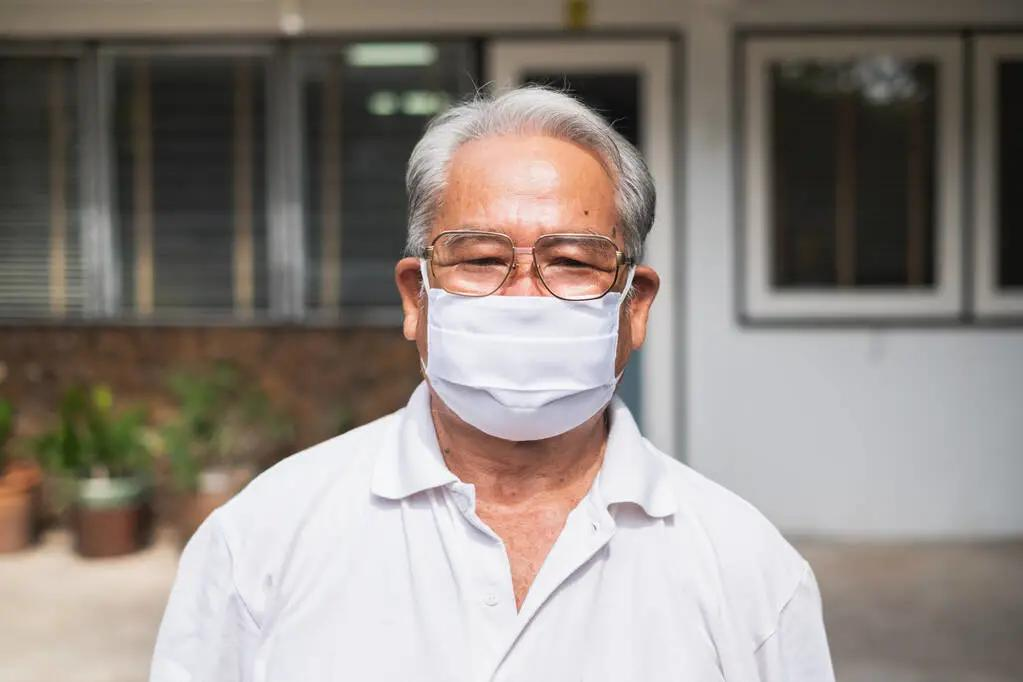mask: (414, 131, 631, 447)
